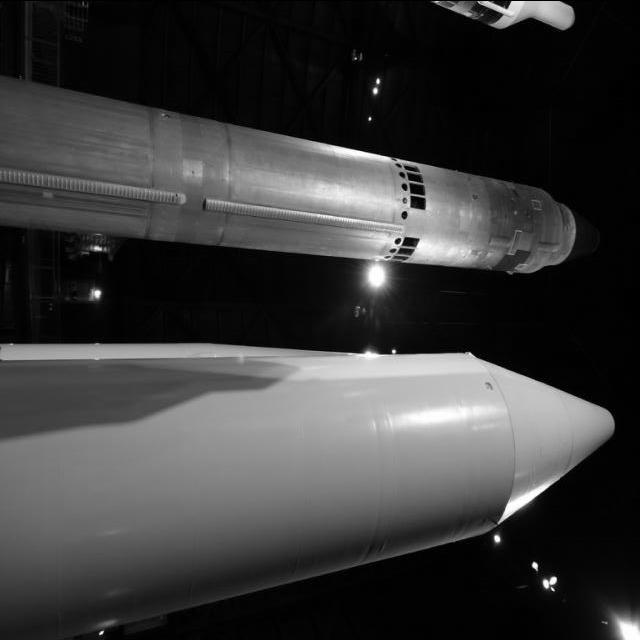missile: (1, 340, 614, 640), (28, 57, 606, 329)
